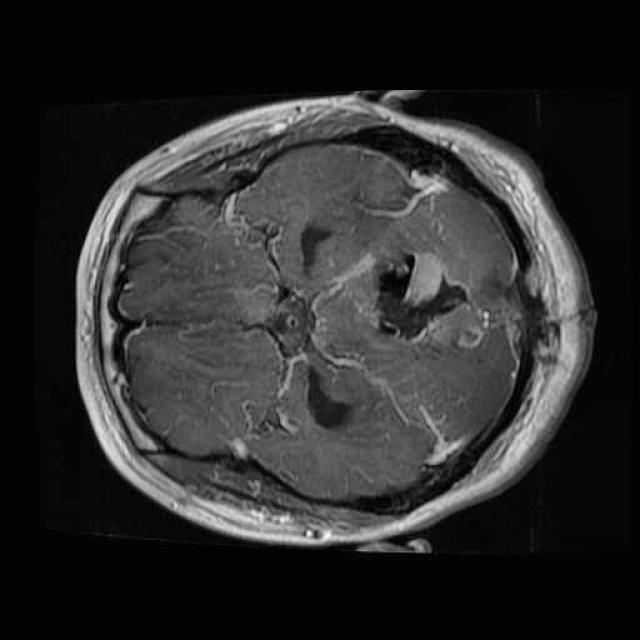Non-Tumor: (365, 245, 476, 350)
